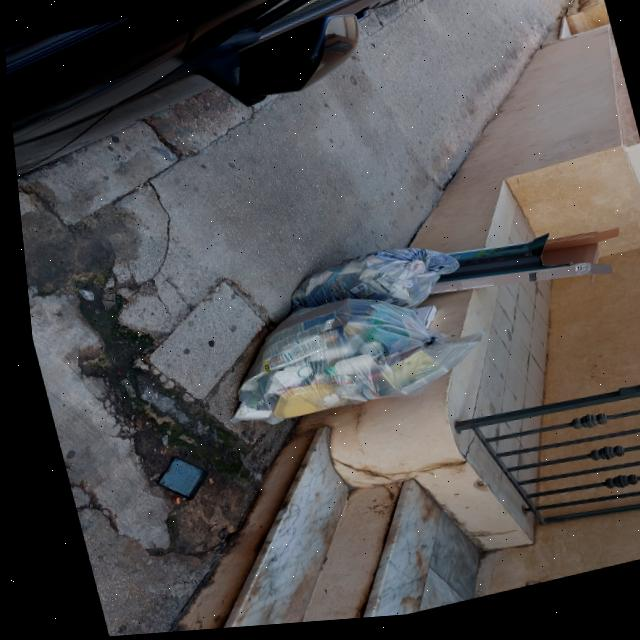Other: (411, 217, 631, 324), (397, 305, 442, 341)
Recycled Waste -Grey or Green Bag-: (193, 274, 492, 440), (268, 238, 468, 340)
